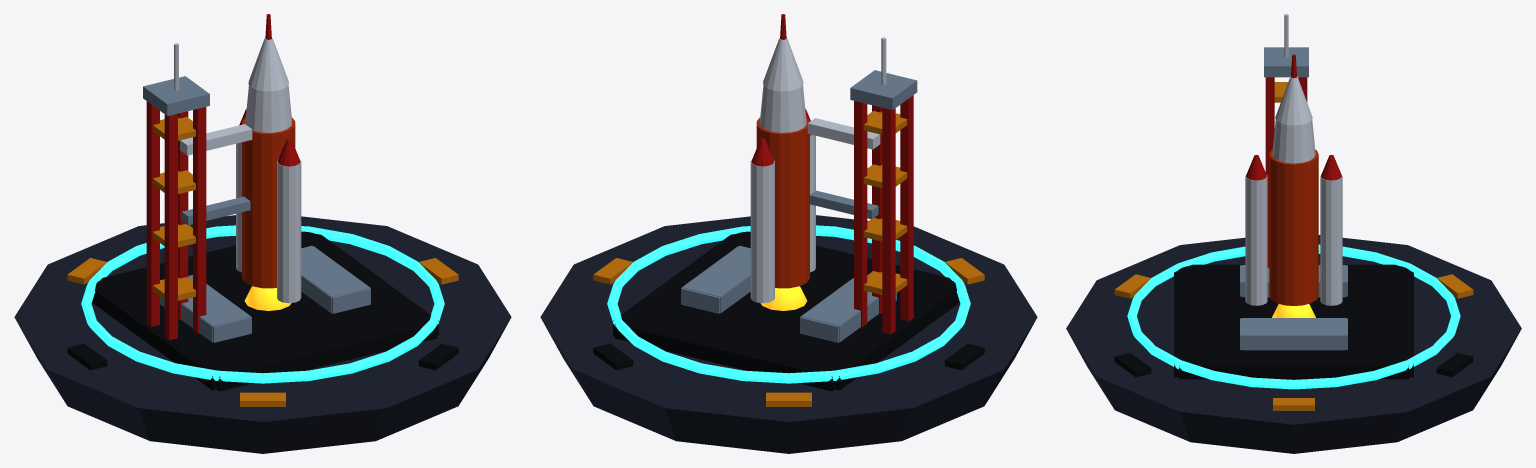
Rendered from earth_launchpad.glb.
3 views of the same model, side by side, from view 1: azimuth 30°, elevation 25°; view 2: azimuth 150°, elevation 25°; view 3: azimuth 270°, elevation 25° (orthographic). The views are drawn at different scales.
Parts seen in each view (by area): view 1: EarthLaunchpadComplex, RocketFlameCone; view 2: EarthLaunchpadComplex, RocketFlameCone; view 3: EarthLaunchpadComplex, RocketFlameCone.
Boxes of the visible parts, x1,y1,x2,y2 form: EarthLaunchpadComplex: (14,14,511,453); RocketFlameCone: (244,286,291,310); EarthLaunchpadComplex: (540,14,1037,453); RocketFlameCone: (760,286,807,310); EarthLaunchpadComplex: (1066,14,1521,453); RocketFlameCone: (1272,304,1315,317).
Bounding box in the file's own units: 3.04 × 2.31 × 3.04.
